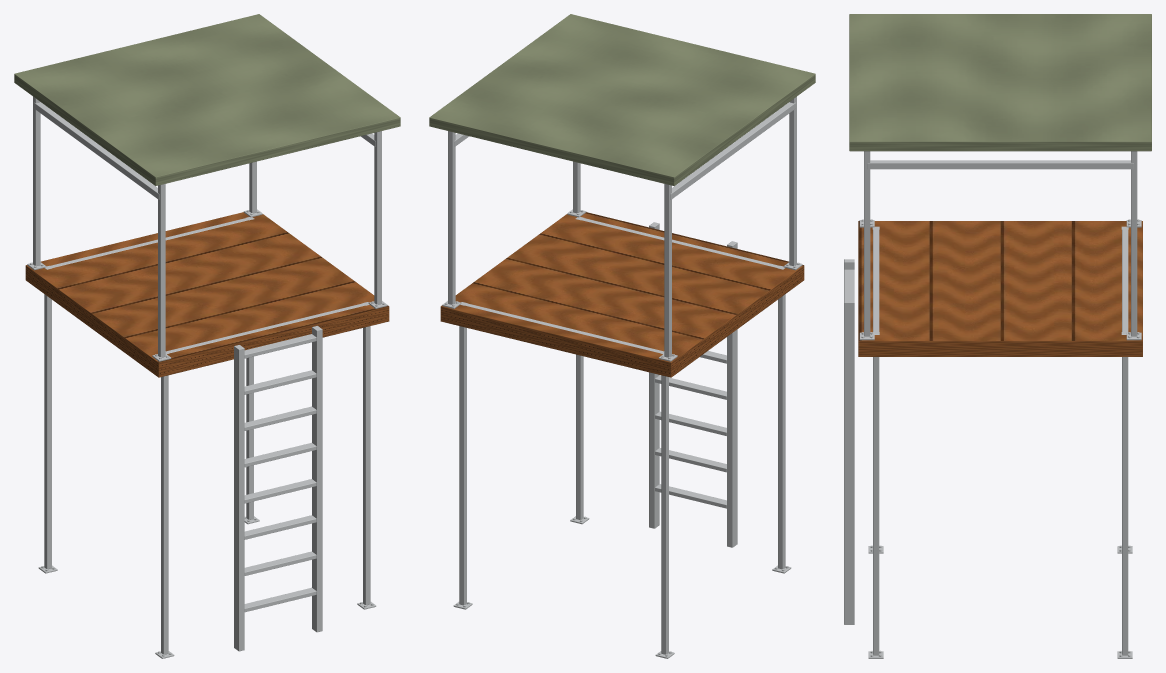
Rendered from fps-weapon-set-and-firing-range-range-officer-tower-47d35249__19515.glb.
3 renders of one model, left to right at view 1: azimuth 30°, elevation 25°; view 2: azimuth 150°, elevation 25°; view 3: azimuth 270°, elevation 25°, orthographic. The views are drawn at different scales.
Visible parts, largest first — view 1: range-officer-tower; view 2: range-officer-tower; view 3: range-officer-tower.
Part boxes in pixels (left/top/right/bottom): range-officer-tower: left=14, top=14, right=400, bottom=658; range-officer-tower: left=429, top=14, right=815, bottom=658; range-officer-tower: left=844, top=14, right=1151, bottom=658.
Bounding box in the file's own units: 1.7 × 3.26 × 1.73.
Materials: 3 (2 with a texture image).
